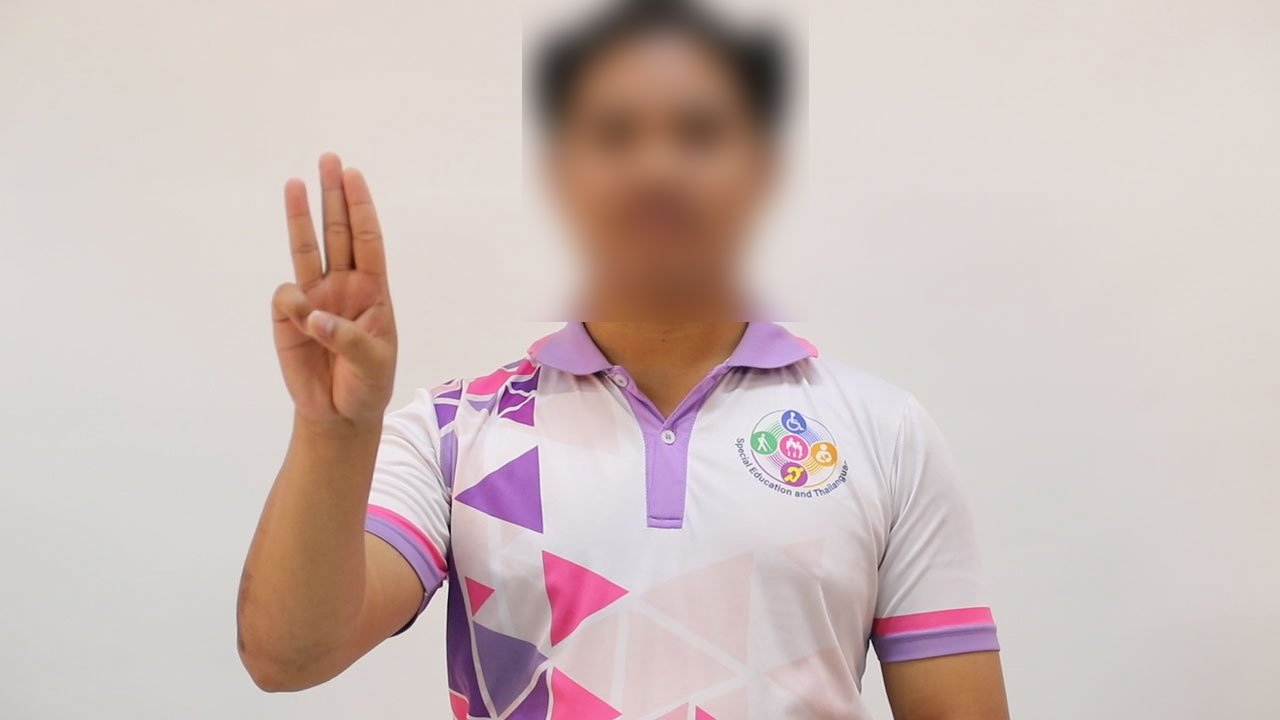wor: (257, 140, 407, 446)
